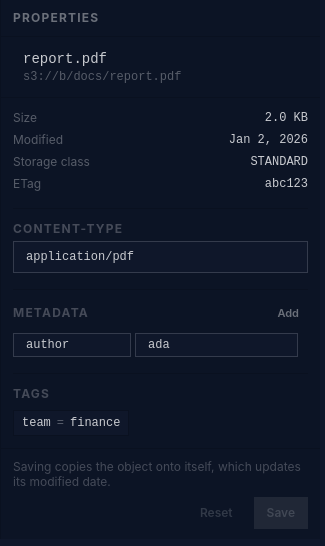
Test: ObjectPropertiesPanel › enables save only after a change and resets it
Expected: the button "Save" is disabled, top-left (254, 496), bottom-right (308, 528)
Replace the text in the field labelled "Content-Type" with "text/plain": (160, 257) top-left (13, 241), bottom-right (308, 273)
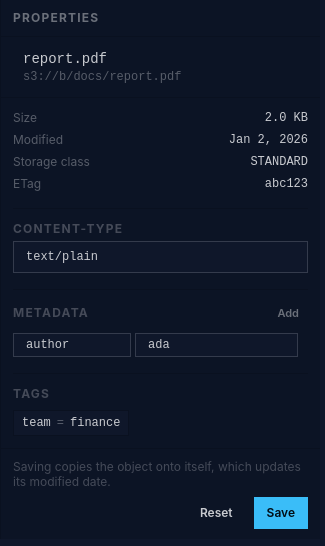
Expected: the button "Save" is enabled, top-left (254, 496), bottom-right (308, 528)
Click the button "Reset": (216, 512) top-left (187, 496), bottom-right (246, 528)
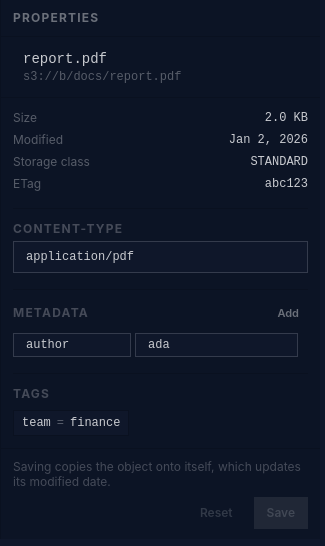
Expected: the field labelled "Content-Type" holds "application/pdf", top-left (13, 241), bottom-right (308, 273)
Expected: the button "Save" is disabled, top-left (254, 496), bottom-right (308, 528)
